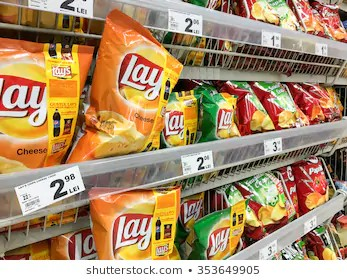lays-large: (65, 19, 189, 164)
lays-small: (8, 25, 344, 180)
